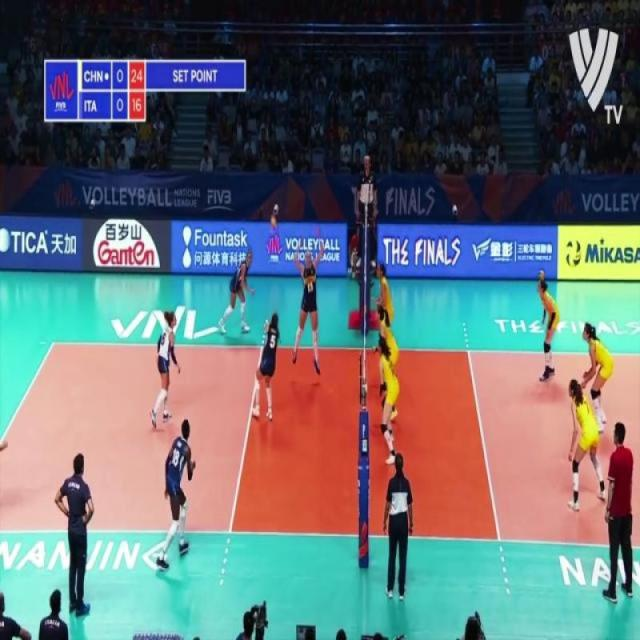volleyball: (564, 237, 583, 270), (268, 214, 280, 236)
